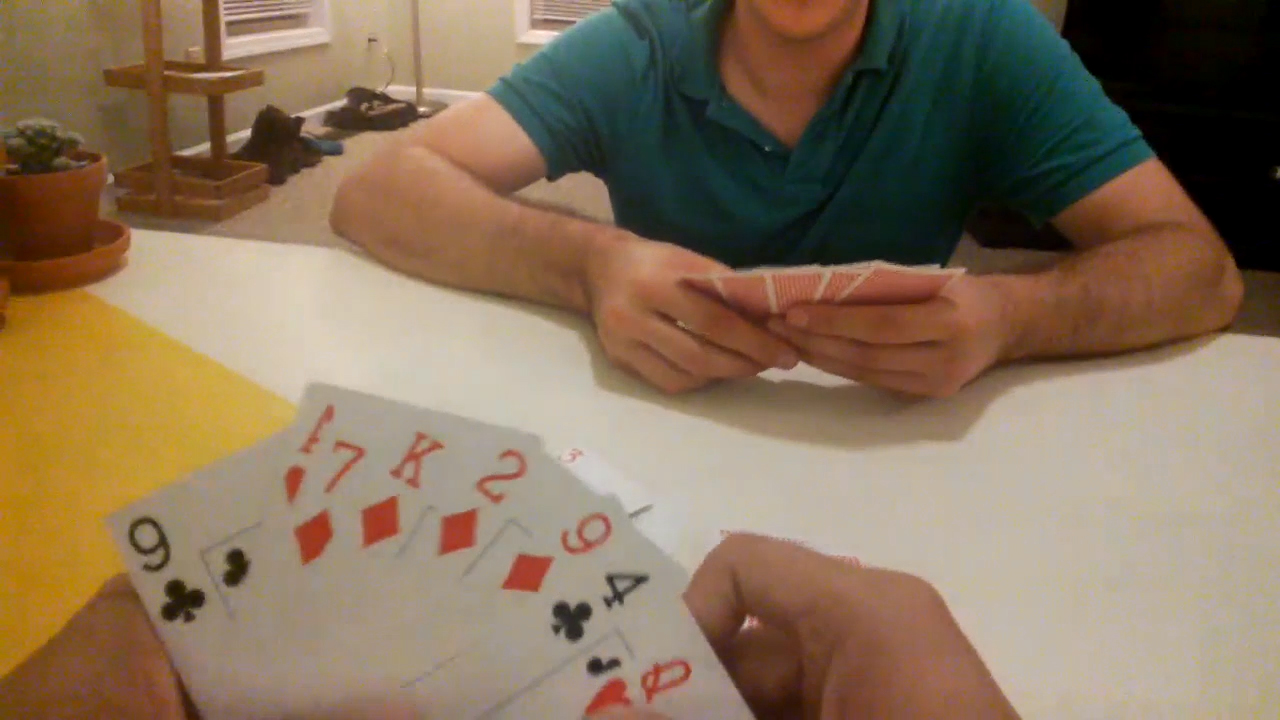hand: (594, 546, 1020, 718), (1, 572, 429, 718), (584, 234, 807, 393), (778, 272, 999, 401)
